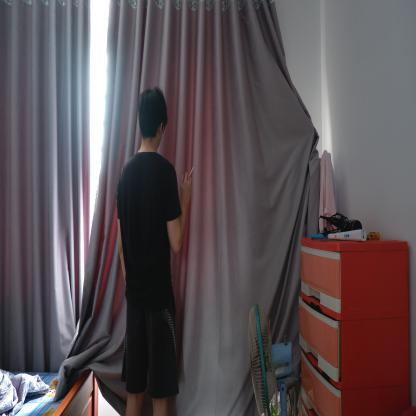cigarette: (189, 166, 194, 176)
person: (115, 86, 193, 415)
